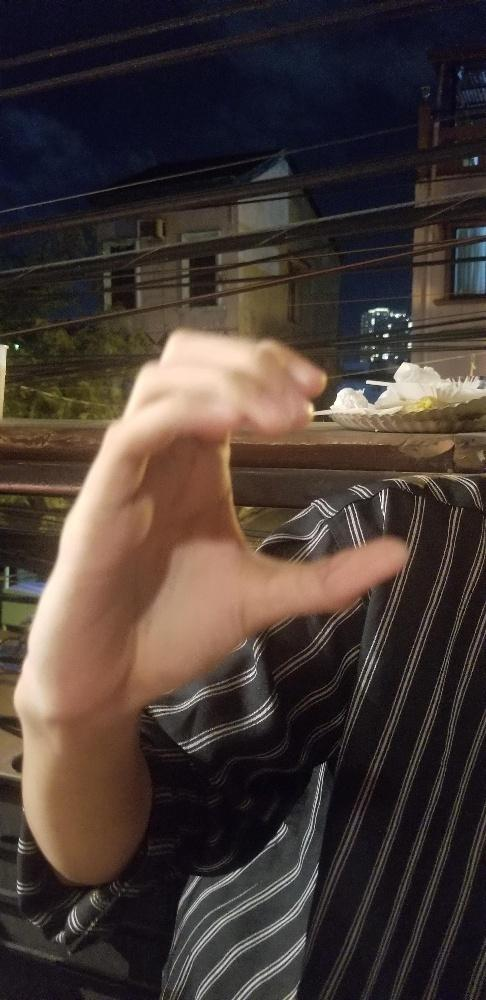c: (13, 324, 409, 725)
